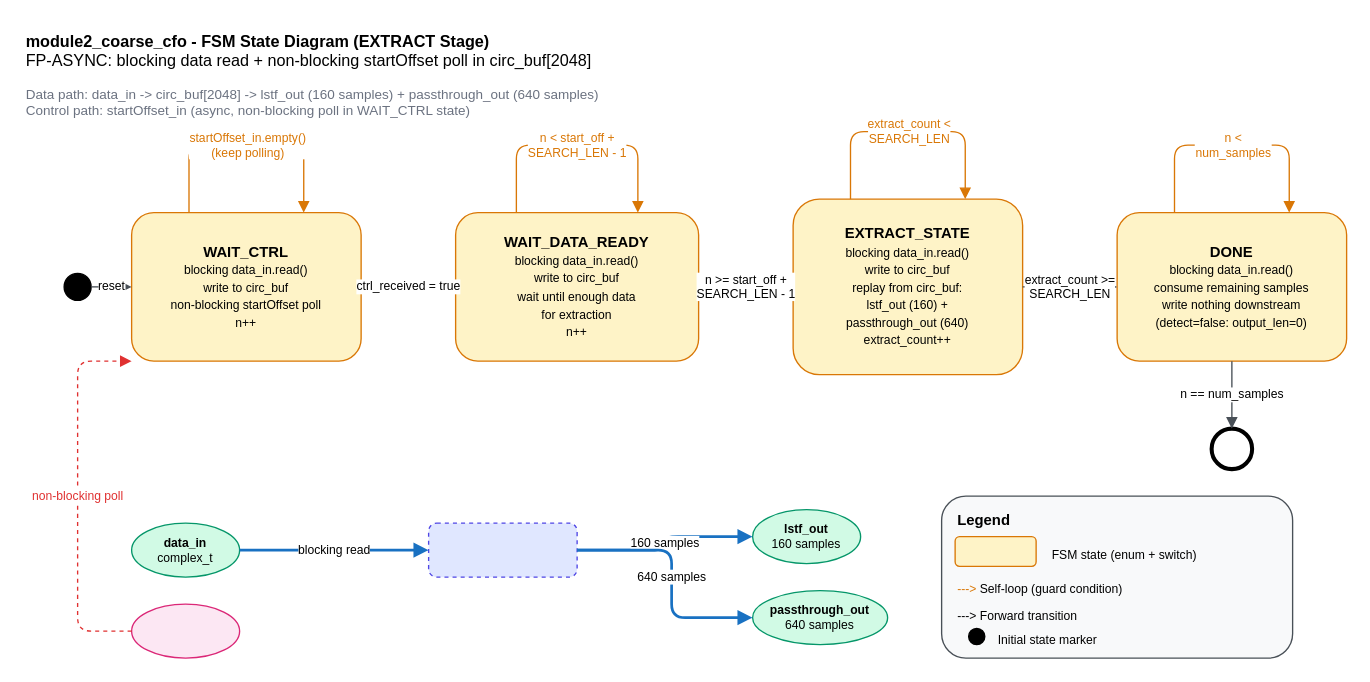
Image size: 1370x682. Some labels were removed from this diagram. The centre of each missing label's shape, as x and y in pixels:
"circ_buf[2048] BRAM" belongs at (x=502, y=549).
"startOffset_in index_t" belongs at (x=185, y=630).
"STATE" belongs at (x=995, y=550).
